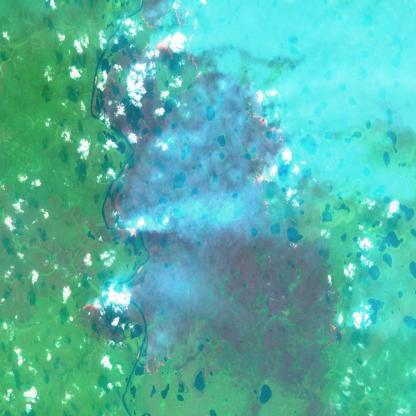fire: (141, 0, 202, 90), (70, 294, 109, 348), (99, 216, 148, 248), (140, 349, 174, 381), (324, 320, 347, 352)
